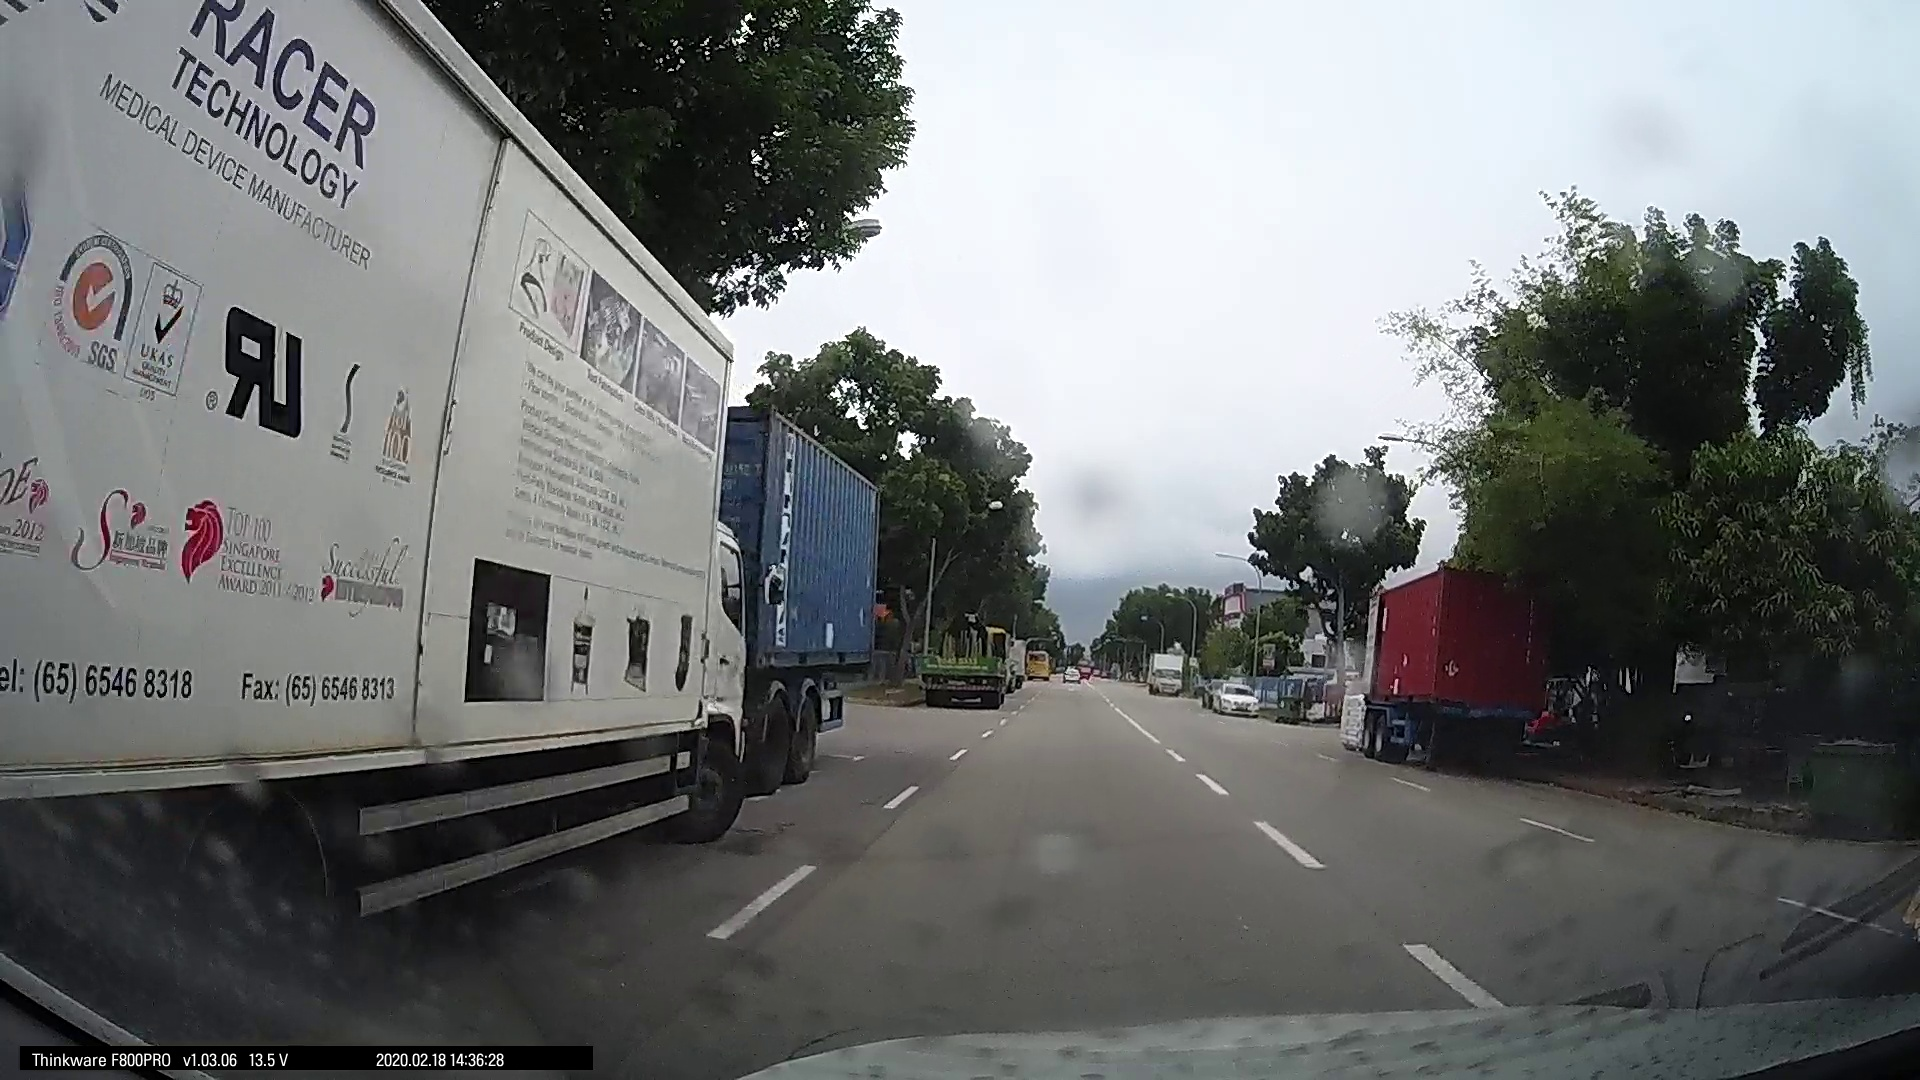Heavy Vehicle: (1, 1, 752, 998), (1346, 560, 1560, 767)
Light Vehicle: (1201, 671, 1258, 716), (1145, 651, 1185, 695)
